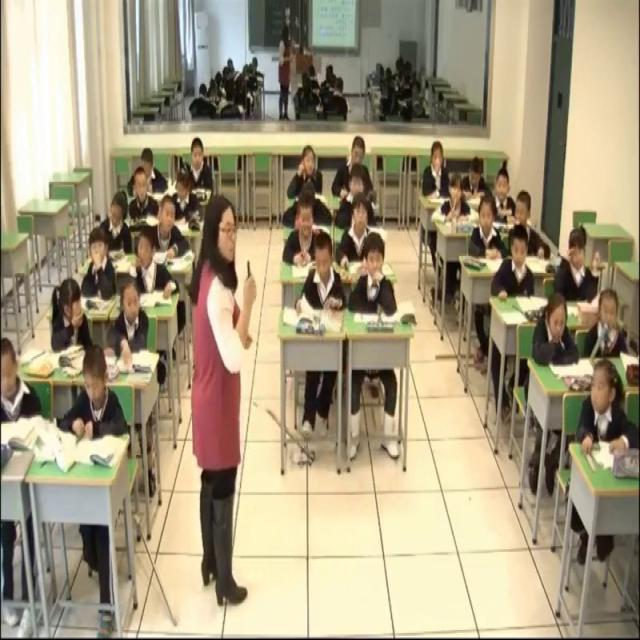distracted: (575, 354, 640, 460), (531, 289, 576, 366), (511, 190, 552, 264), (54, 280, 92, 352)
focused: (56, 345, 130, 444), (554, 224, 609, 302), (298, 226, 346, 314), (109, 271, 154, 362), (0, 339, 45, 426), (585, 289, 634, 366), (350, 238, 397, 317), (492, 222, 537, 304), (132, 226, 178, 304), (337, 196, 380, 271), (286, 195, 328, 271), (151, 195, 190, 264), (166, 162, 204, 230), (336, 167, 374, 234), (82, 225, 117, 296), (333, 136, 371, 201), (432, 176, 478, 228), (466, 192, 501, 258), (422, 138, 453, 206), (289, 143, 325, 196), (460, 156, 496, 208), (103, 190, 130, 258), (185, 135, 213, 199), (127, 170, 157, 223), (134, 149, 167, 197), (492, 166, 519, 222)
